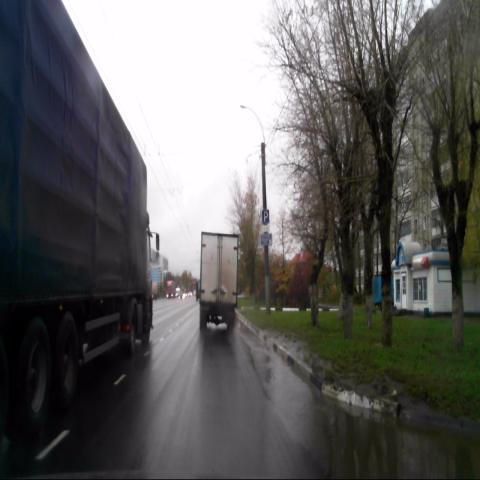6_4: (262, 209, 269, 224)
